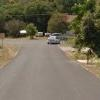Tree: (66, 12, 100, 77)
